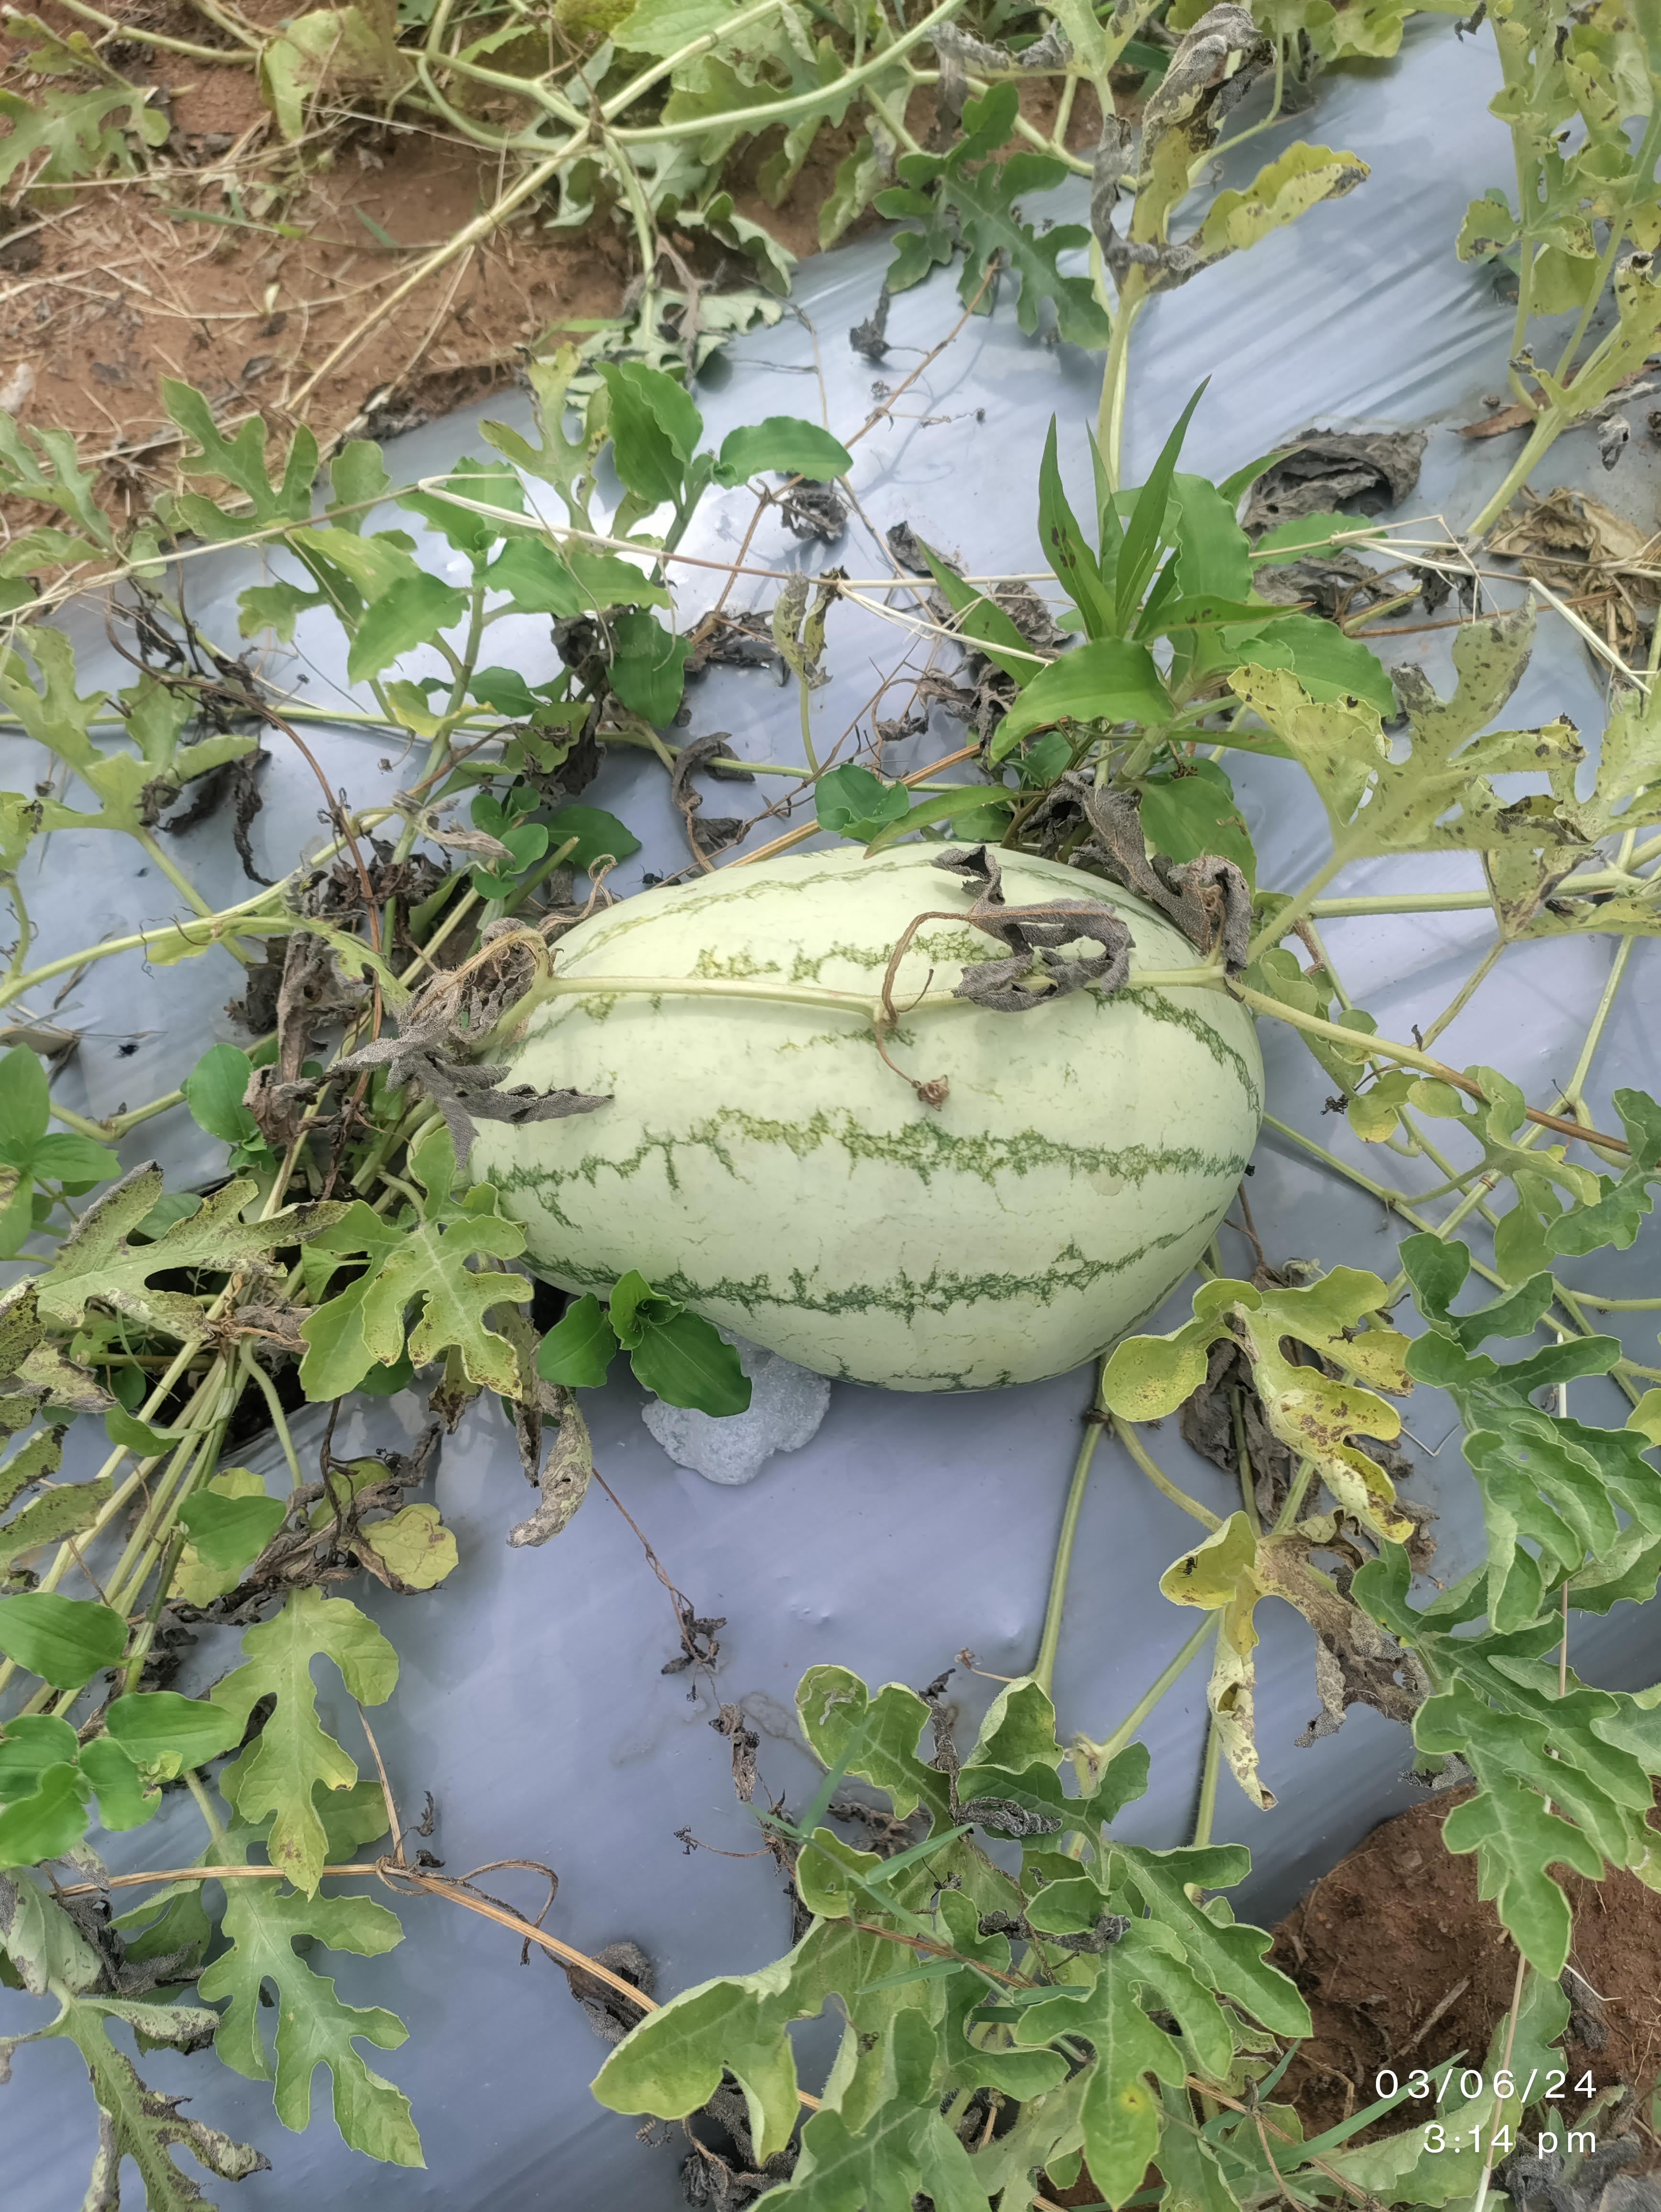good-to-harvest: (396, 818, 1333, 1401)
